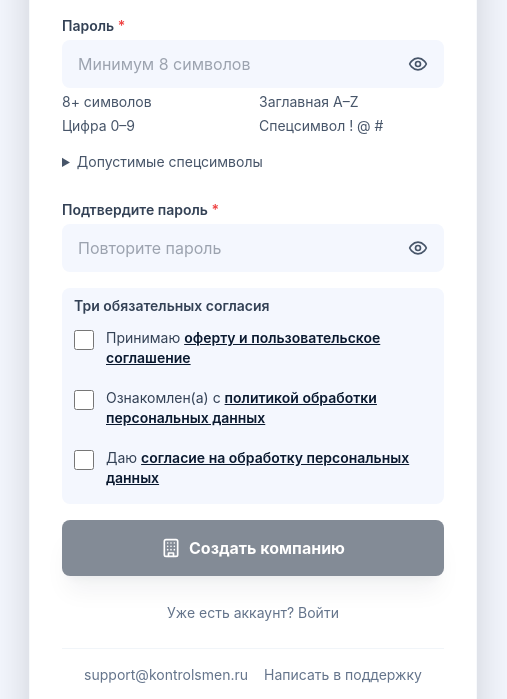
it: RegisterView › keeps exactly three required consents unchecked and gates submit until all are accepted
The width and height of the screenshot is (507, 699).
(page scrolled)
Expected: the checkbox labelled "Ознакомлен(а) с политикой обработки персональных данных" is not checked, top-left (74, 390), bottom-right (94, 410)
Expected: the checkbox labelled "Даю согласие на обработку персональных данных" is not checked, top-left (74, 450), bottom-right (94, 470)
Click the checkbox labelled "Принимаю оферту и пользовательское соглашение": coordinates (84, 340) top-left (74, 330), bottom-right (94, 350)
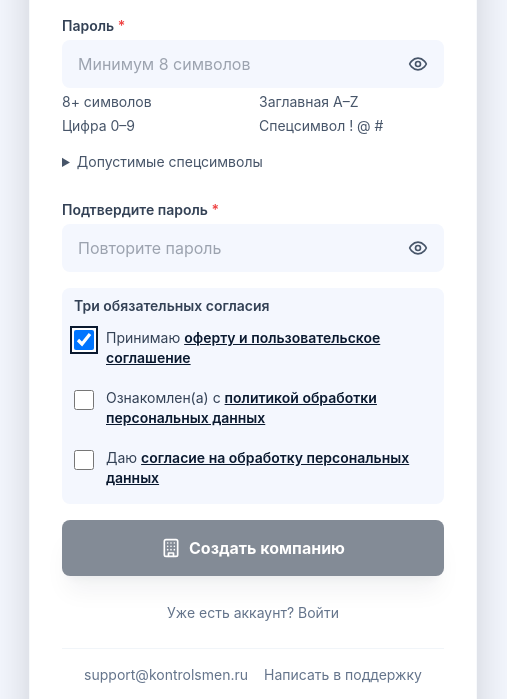
Click the checkbox labelled "Ознакомлен(а) с политикой обработки персональных данных": coordinates (84, 400) top-left (74, 390), bottom-right (94, 410)
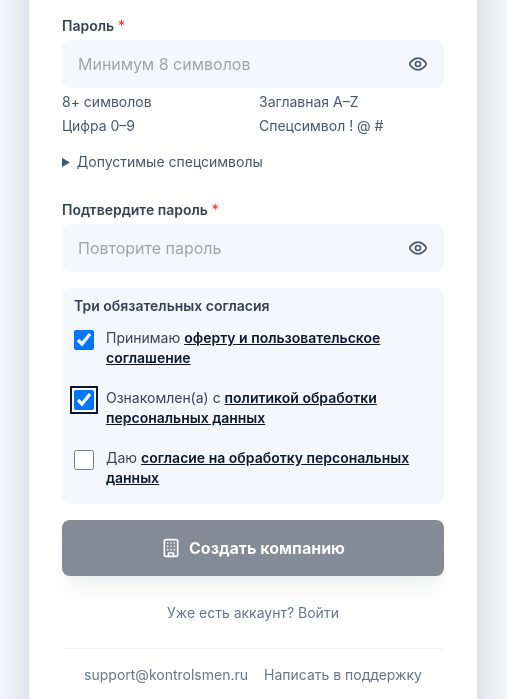
Expected: the button "Создать компанию" is disabled, top-left (62, 520), bottom-right (444, 576)
Click the checkbox labelled "Даю согласие на обработку персональных данных": coordinates (84, 460) top-left (74, 450), bottom-right (94, 470)
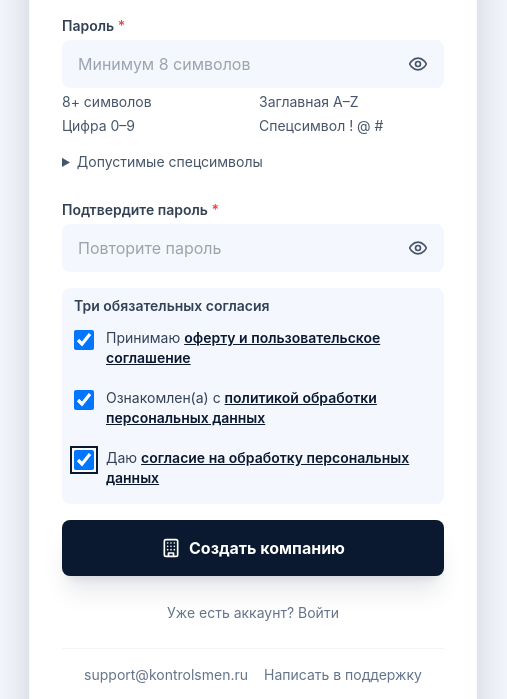
Now the button "Создать компанию" is enabled, box top-left (62, 520), bottom-right (444, 576)
Click the checkbox labelled "Принимаю оферту и пользовательское соглашение": coordinates (84, 340) top-left (74, 330), bottom-right (94, 350)
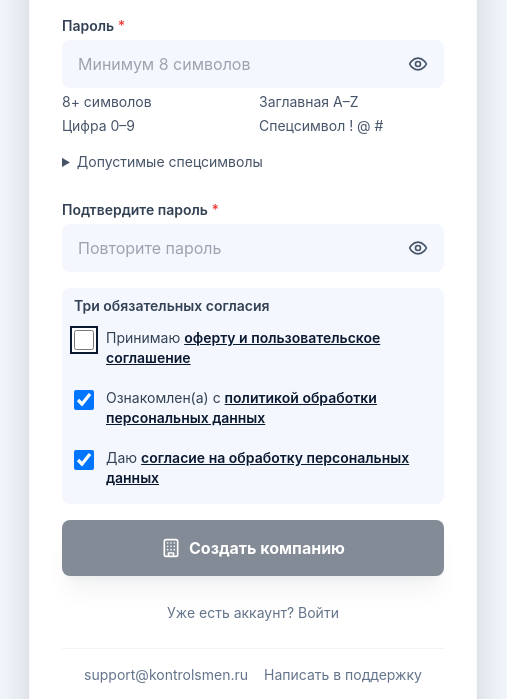
Now the button "Создать компанию" is disabled, box top-left (62, 520), bottom-right (444, 576)
